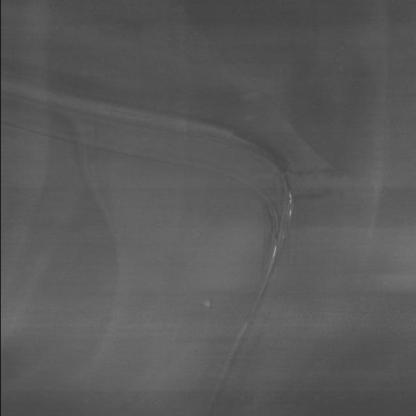crease: (94, 111, 328, 369)
